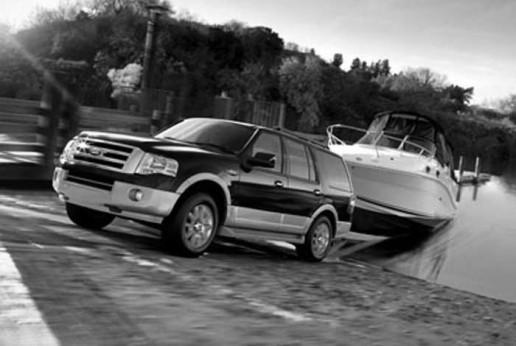car: (54, 114, 359, 267)
